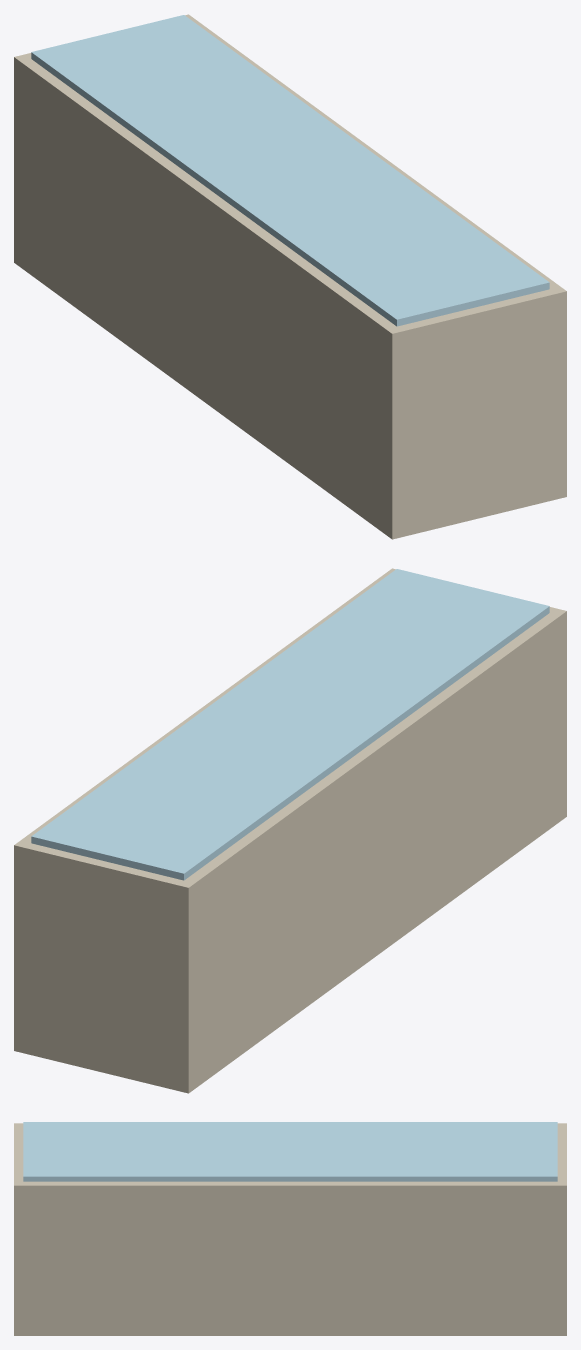
Rendered from freezer.glb.
3 views of the same model, one above another, from view 1: azimuth 30°, elevation 25°; view 2: azimuth 150°, elevation 25°; view 3: azimuth 270°, elevation 25° (orthographic). The views are drawn at different scales.
Parts seen in each view (by area): view 1: Box1, Box2; view 2: Box1, Box2; view 3: Box1, Box2.
Boxes of the visible parts, left/top/right/bottom form: Box1: left=14, top=14, right=566, bottom=539; Box2: left=31, top=15, right=549, bottom=326; Box1: left=14, top=568, right=566, bottom=1093; Box2: left=31, top=569, right=549, bottom=880; Box1: left=14, top=1123, right=566, bottom=1335; Box2: left=23, top=1122, right=557, bottom=1181.
Bounding box in the file's own units: 0.8 × 0.93 × 3.
